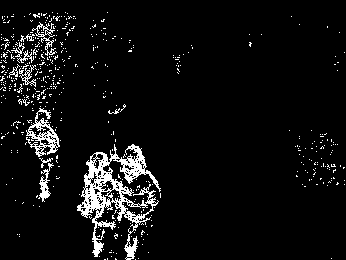person: (76, 152, 120, 260), (122, 144, 161, 260), (25, 107, 59, 201)
